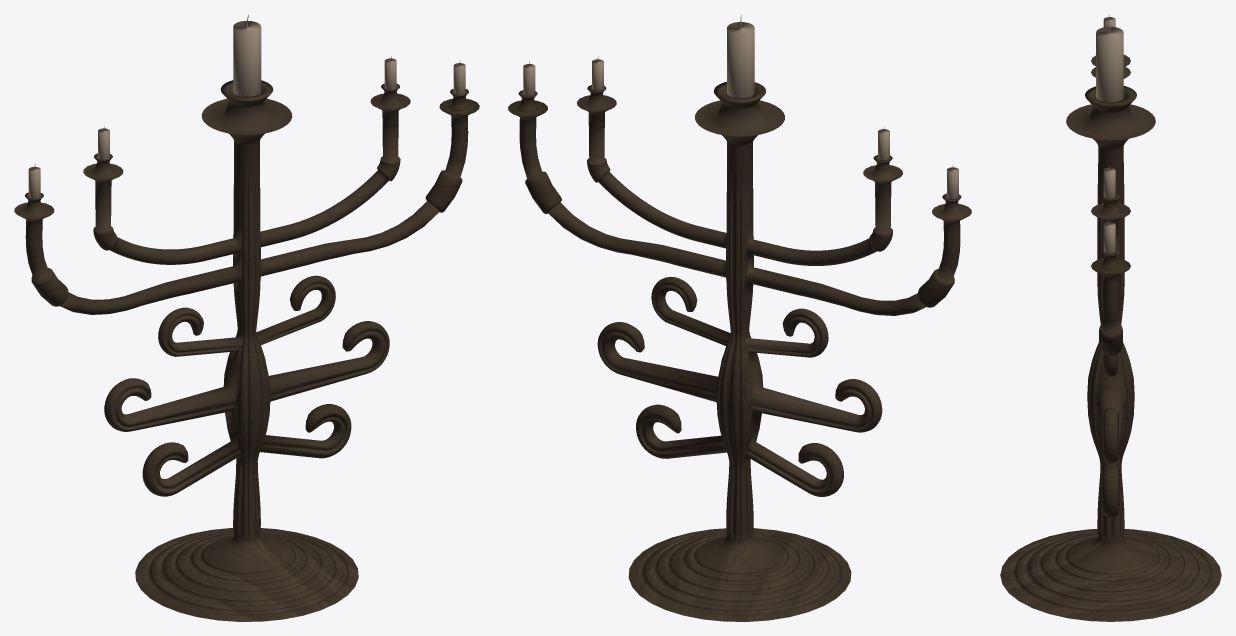
File: Candlestick.obj
3 renders of one model, left to right at view 1: azimuth 30°, elevation 25°; view 2: azimuth 150°, elevation 25°; view 3: azimuth 270°, elevation 25°, orthographic.
Visible parts, largest first — view 1: Candlestick_1, Candles; view 2: Candlestick_1, Candles; view 3: Candlestick_1, Candles.
Boxes of the visible parts, <box> form: Candlestick_1: <box>14,80,479,621</box>; Candles: <box>28,14,465,198</box>; Candlestick_1: <box>508,82,971,621</box>; Candles: <box>523,14,958,198</box>; Candlestick_1: <box>1000,54,1221,621</box>; Candles: <box>1096,15,1123,253</box>.
Bounding box in the file's own units: 0.4361 × 0.5085 × 0.1837.
